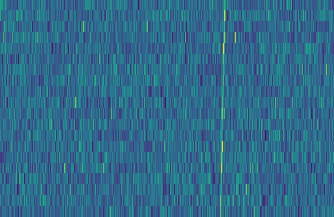signal: (216, 0, 230, 217)
